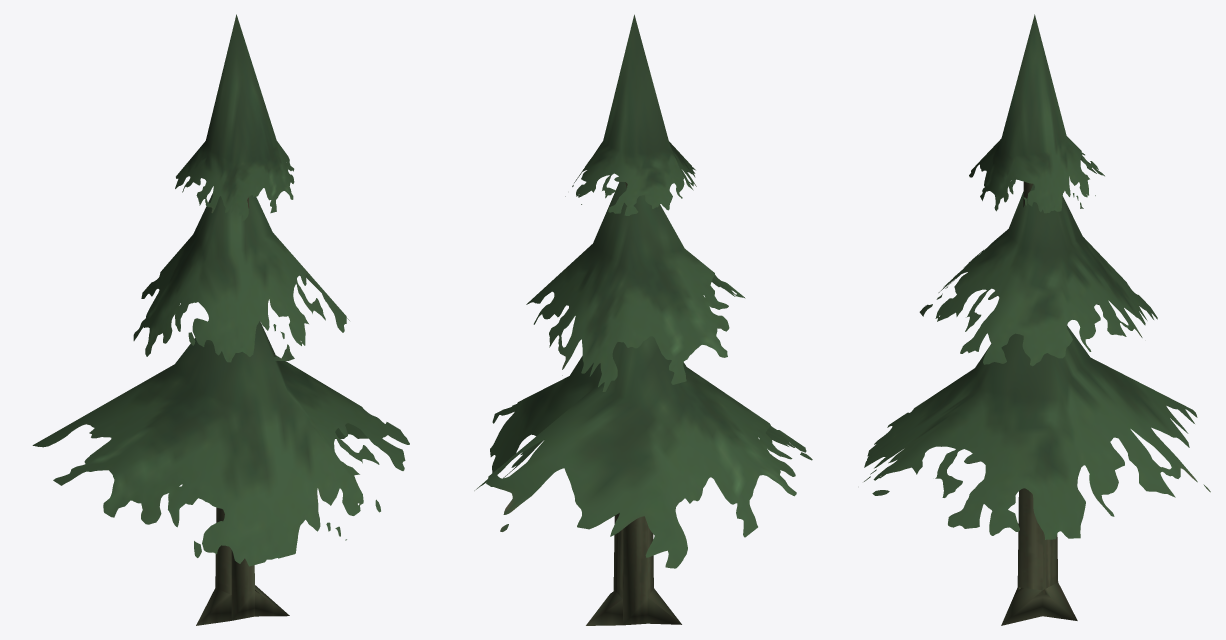
Rendered from Tree S.glb.
3 renders of one model, left to right at view 1: azimuth 30°, elevation 25°; view 2: azimuth 150°, elevation 25°; view 3: azimuth 270°, elevation 25°, orthographic.
Visible parts, largest first — view 1: Cone.001; view 2: Cone.001; view 3: Cone.001.
Part boxes in pixels (left/top/right/bottom): Cone.001: left=32, top=14, right=409, bottom=625; Cone.001: left=474, top=14, right=812, bottom=625; Cone.001: left=864, top=14, right=1210, bottom=625.
Size of the model in its own units: 6.55 by 11.83 by 6.46.
1 material, 1 textured.
